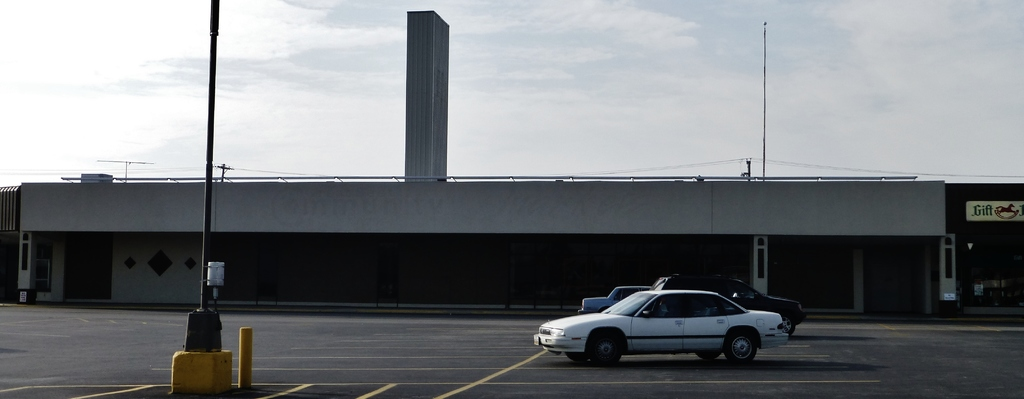Car: (529, 284, 789, 369), (648, 272, 805, 333), (577, 288, 638, 305)
